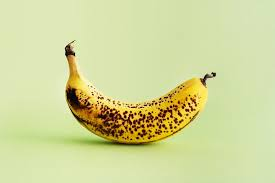banana: (62, 40, 215, 145)
